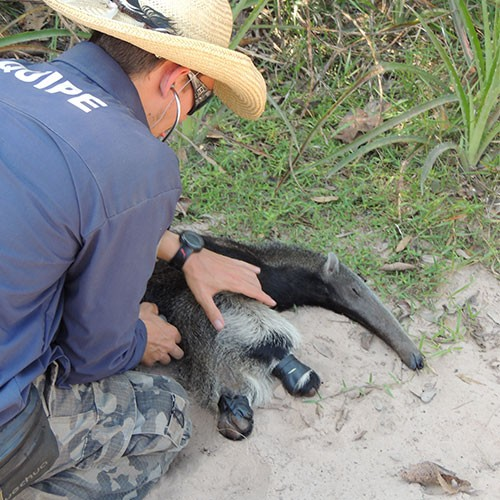TamanduaBandeira: (162, 230, 431, 441)
